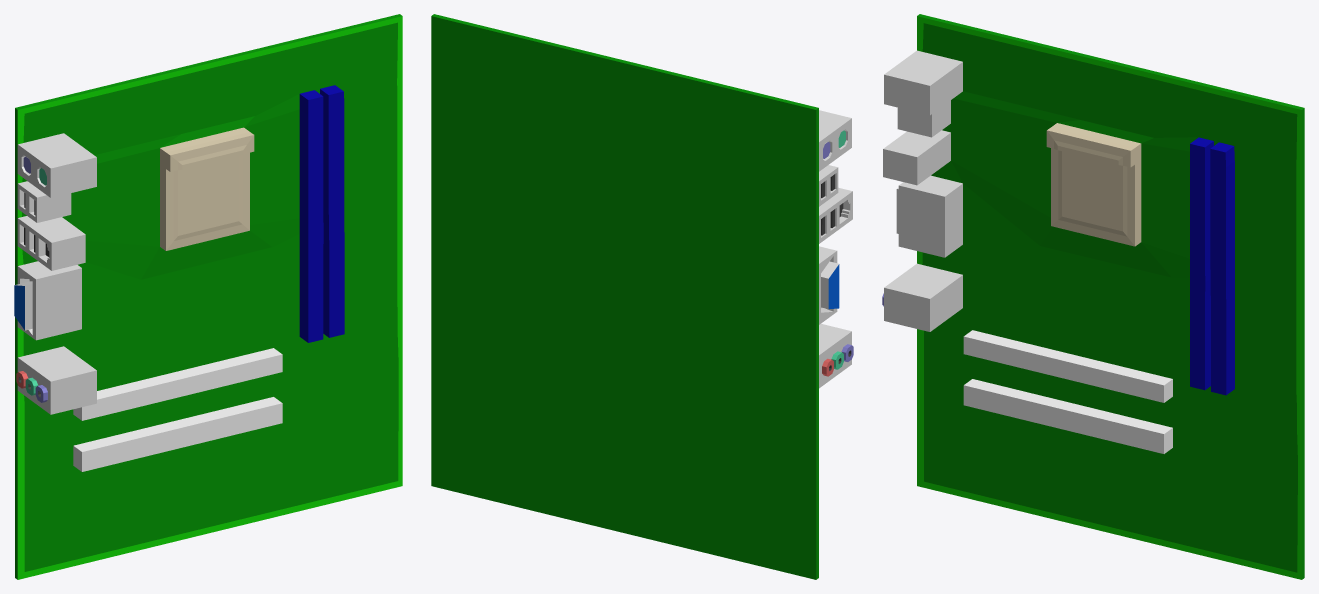
The model's file is mobo01_amd.fbx.
3 views of the same model, side by side, from view 1: azimuth 30°, elevation 25°; view 2: azimuth 150°, elevation 25°; view 3: azimuth 330°, elevation 25° (orthographic).
Visible parts, largest first — view 1: Plane; view 2: Plane; view 3: Plane.
Part boxes in pixels (x1,y1,x2,y2): Plane: (14,14,402,579); Plane: (431,14,853,579); Plane: (882,14,1304,579).
Size of the model in its own units: 170 by 195 by 27.57.
